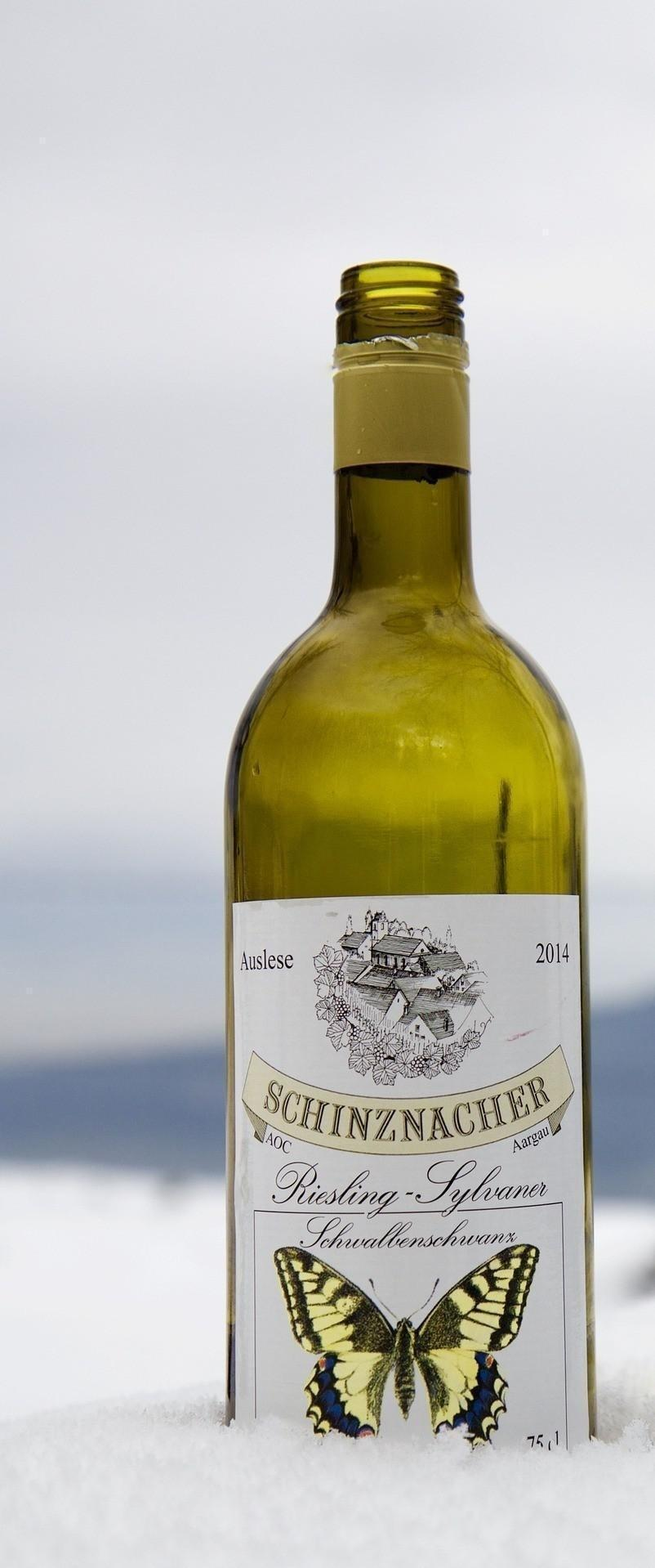bottle-glass: (212, 252, 600, 1458)
